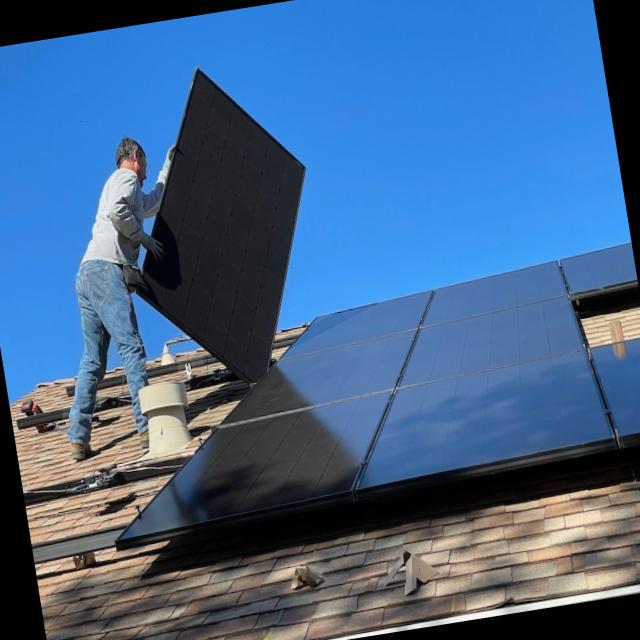no faulty: (127, 259, 616, 540), (145, 84, 304, 376)
